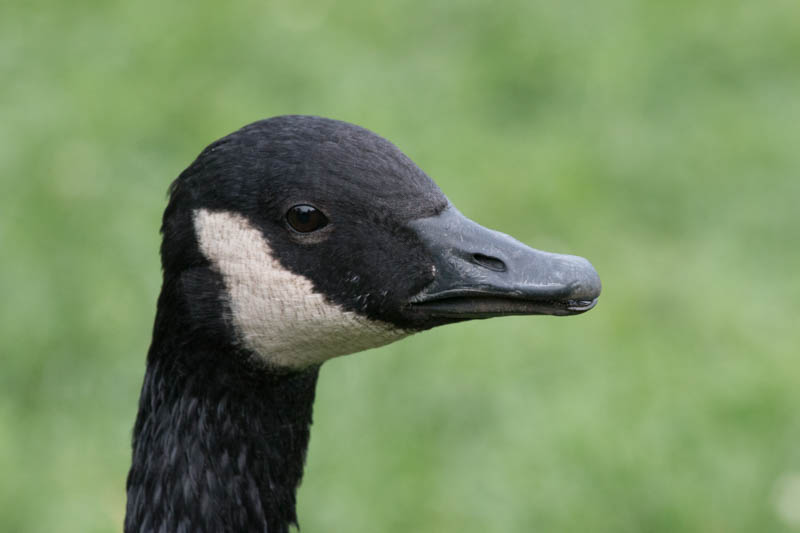goose-head: (159, 114, 604, 373)
